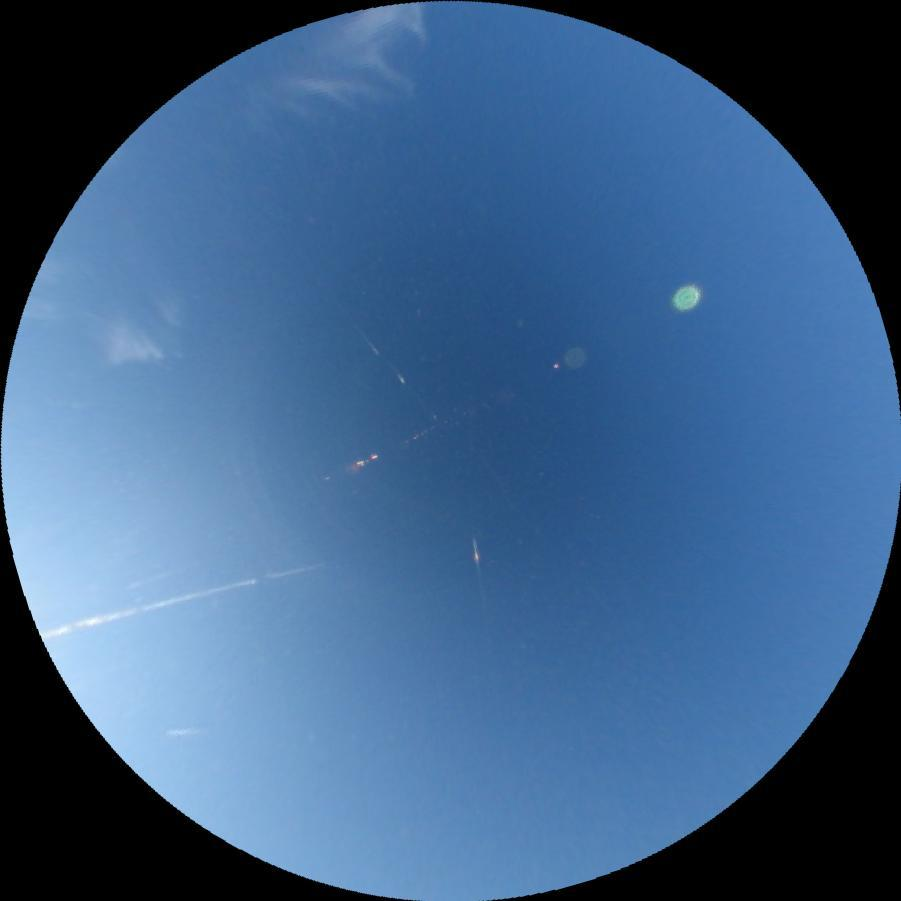contrail young: (164, 726, 205, 736)
parasite: (39, 554, 324, 640), (351, 321, 406, 384), (471, 536, 483, 591)
